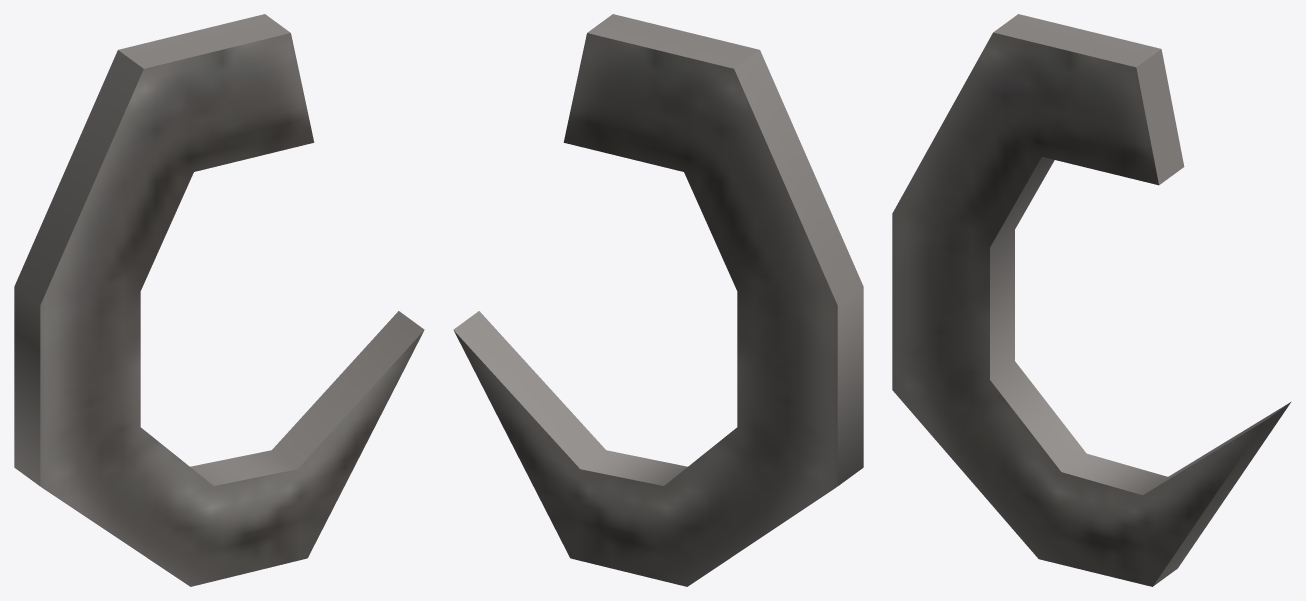
The model's file is Hook.fbx.
3 renders of one model, left to right at view 1: azimuth 30°, elevation 25°; view 2: azimuth 150°, elevation 25°; view 3: azimuth 330°, elevation 25°, orthographic. The views are drawn at different scales.
Visible parts, largest first — view 1: Hook01; view 2: Hook01; view 3: Hook01.
Part boxes in pixels (x1=…): Hook01: x1=14, y1=14, x2=424, y2=586; Hook01: x1=453, y1=14, x2=863, y2=586; Hook01: x1=892, y1=14, x2=1291, y2=586.
Size of the model in its own units: 293 by 385 by 34.22.
Materials: 1 (1 with a texture image).
